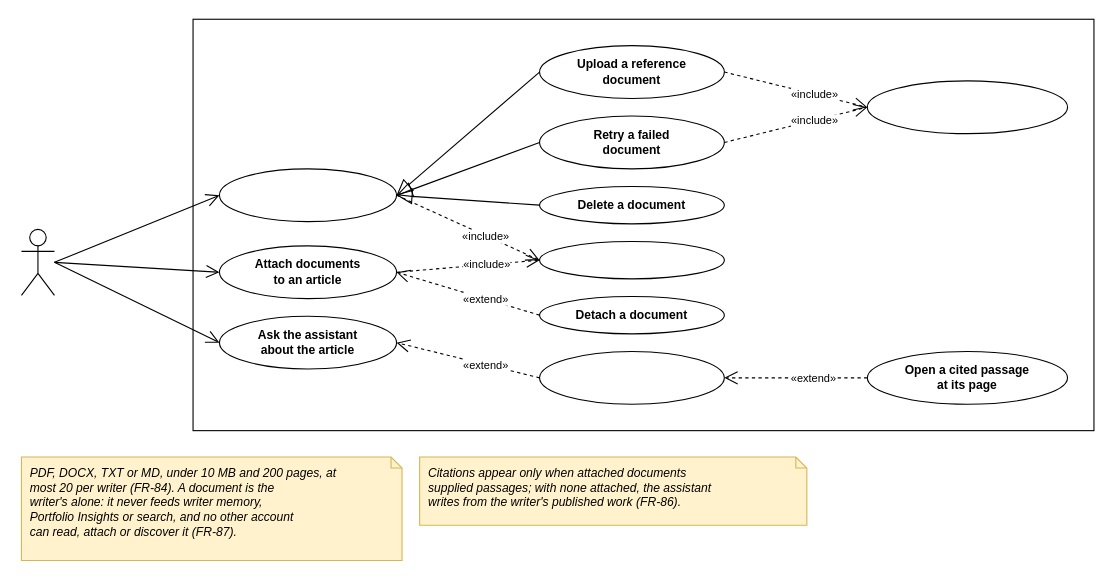
The diagram is 1113 pixels wide and 580 high, and some of its shapes have lost their labels. The centre of each missing label's shape, as x and y in pixels:
Cite passages as [Title, p. N]: [631,377]
Extract, chunk and embed the text: [967,107]
Manage the document library: [307,195]
Sign in: [631,259]
Writer: [37,261]
